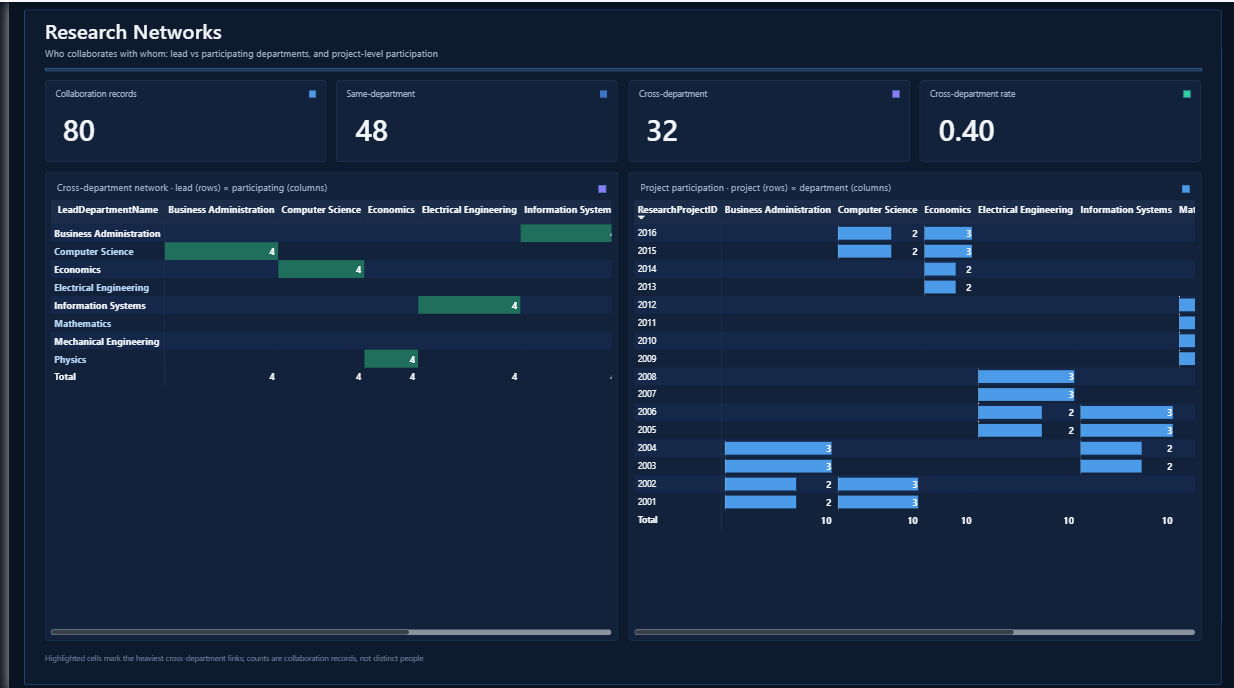

This screenshot's page, from the dashboard's own definition file:
{"tool":"powerbi","page":{"name":"Research Networks","canvas":[1920,1080],"ordinal":5},"visuals":[{"type":"shape","box":[24,12,1872,1056],"z":100},{"type":"textbox","box":[56,24,1200,46],"z":200},{"type":"textbox","box":[56,70,1250,26],"z":300},{"type":"shape","box":[56,104,1808,5],"z":400},{"type":"shape","box":[56,122,440,128],"z":500},{"type":"textbox","box":[72,134,384,22],"z":600},{"type":"shape","box":[468,139,11,11],"z":700},{"type":"cardVisual","fields":{"Data":["ResearchCollaborationAnalysis.C14 Total Collaborations"]},"box":[68,158,412,82],"z":800},{"type":"shape","box":[512,122,440,128],"z":900},{"type":"textbox","box":[528,134,384,22],"z":1000},{"type":"shape","box":[924,139,11,11],"z":1100},{"type":"cardVisual","fields":{"Data":["ResearchCollaborationAnalysis.C14 Same Department"]},"box":[524,158,412,82],"z":1200},{"type":"shape","box":[968,122,440,128],"z":1300},{"type":"textbox","box":[984,134,384,22],"z":1400},{"type":"shape","box":[1380,139,11,11],"z":1500},{"type":"cardVisual","fields":{"Data":["ResearchCollaborationAnalysis.C14 Cross Department"]},"box":[980,158,412,82],"z":1600},{"type":"shape","box":[1424,122,440,128],"z":1700},{"type":"textbox","box":[1440,134,384,22],"z":1800},{"type":"shape","box":[1836,139,11,11],"z":1900},{"type":"cardVisual","fields":{"Data":["ResearchCollaborationAnalysis.C14 Cross Department Rate"]},"box":[1436,158,412,82],"z":2000},{"type":"shape","box":[56,266,896,734],"z":2100},{"type":"textbox","box":[74,280,826,24],"z":2200},{"type":"shape","box":[922,286,12,12],"z":2300},{"type":"pivotTable","fields":{"Columns":["ResearchCollaborationAnalysis.ParticipatingDepartmentName"],"Rows":["ResearchCollaborationAnalysis.LeadDepartmentName"],"Values":["ResearchCollaborationAnalysis.C15 Cross-Department Records"]},"box":[66,310,876,680],"z":2400},{"type":"shape","box":[968,266,896,734],"z":2500},{"type":"textbox","box":[986,280,826,24],"z":2600},{"type":"shape","box":[1834,286,12,12],"z":2700},{"type":"pivotTable","fields":{"Columns":["ResearchCollaborationAnalysis.ParticipatingDepartmentName"],"Rows":["ResearchCollaborationAnalysis.ResearchProjectID"],"Values":["ResearchCollaborationAnalysis.C16 Collaboration Records"]},"box":[978,310,876,680],"z":2800},{"type":"textbox","box":[56,1014,1400,24],"z":2900}]}

Visuals, with their boxes in screenshot pixels (x1, y1, x2, y2), scaled from the page's 1920x1080 canvas onto the 1234x688 screenshot:
shape: bbox=[15, 8, 1219, 680]
textbox: bbox=[36, 15, 807, 45]
textbox: bbox=[36, 45, 839, 61]
shape: bbox=[36, 66, 1198, 69]
shape: bbox=[36, 78, 319, 159]
textbox: bbox=[46, 85, 293, 99]
shape: bbox=[301, 89, 308, 96]
cardVisual - ResearchCollaborationAnalysis.C14 Total Collaborations: bbox=[44, 101, 308, 153]
shape: bbox=[329, 78, 612, 159]
textbox: bbox=[339, 85, 586, 99]
shape: bbox=[594, 89, 601, 96]
cardVisual - ResearchCollaborationAnalysis.C14 Same Department: bbox=[337, 101, 602, 153]
shape: bbox=[622, 78, 905, 159]
textbox: bbox=[632, 85, 879, 99]
shape: bbox=[887, 89, 894, 96]
cardVisual - ResearchCollaborationAnalysis.C14 Cross Department: bbox=[630, 101, 895, 153]
shape: bbox=[915, 78, 1198, 159]
textbox: bbox=[926, 85, 1172, 99]
shape: bbox=[1180, 89, 1187, 96]
cardVisual - ResearchCollaborationAnalysis.C14 Cross Department Rate: bbox=[923, 101, 1188, 153]
shape: bbox=[36, 169, 612, 637]
textbox: bbox=[48, 178, 578, 194]
shape: bbox=[593, 182, 600, 190]
pivotTable - ResearchCollaborationAnalysis.ParticipatingDepartmentName x ResearchCollaborationAnalysis.LeadDepartmentName: bbox=[42, 197, 605, 631]
shape: bbox=[622, 169, 1198, 637]
textbox: bbox=[634, 178, 1165, 194]
shape: bbox=[1179, 182, 1186, 190]
pivotTable - ResearchCollaborationAnalysis.ParticipatingDepartmentName x ResearchCollaborationAnalysis.ResearchProjectID: bbox=[629, 197, 1192, 631]
textbox: bbox=[36, 646, 936, 661]
